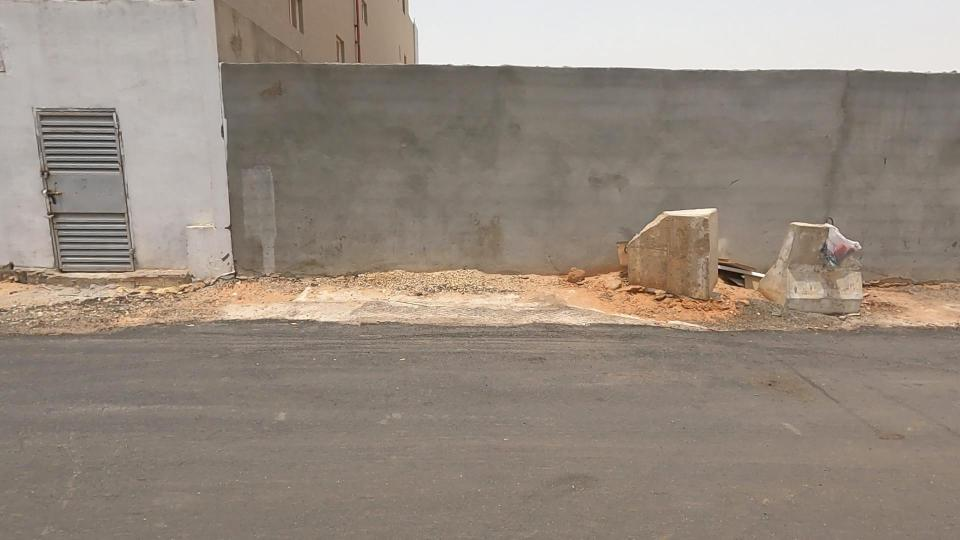GARBAGE: (647, 218, 822, 333), (790, 190, 915, 307)
